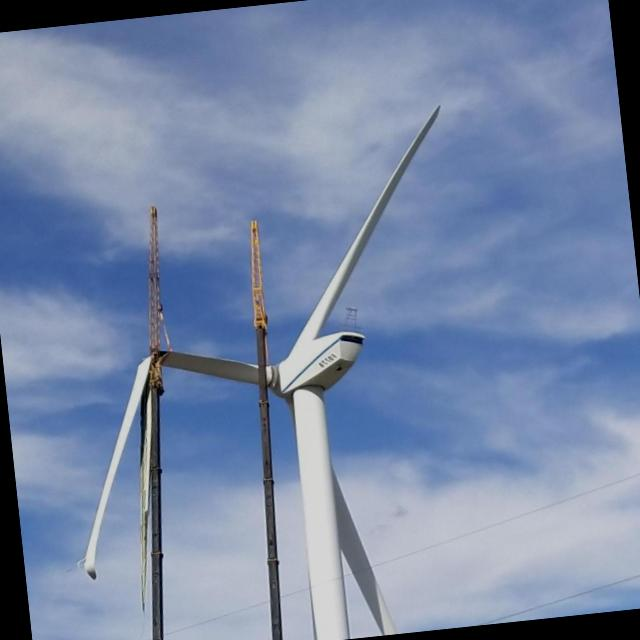crack: (57, 337, 212, 576)
